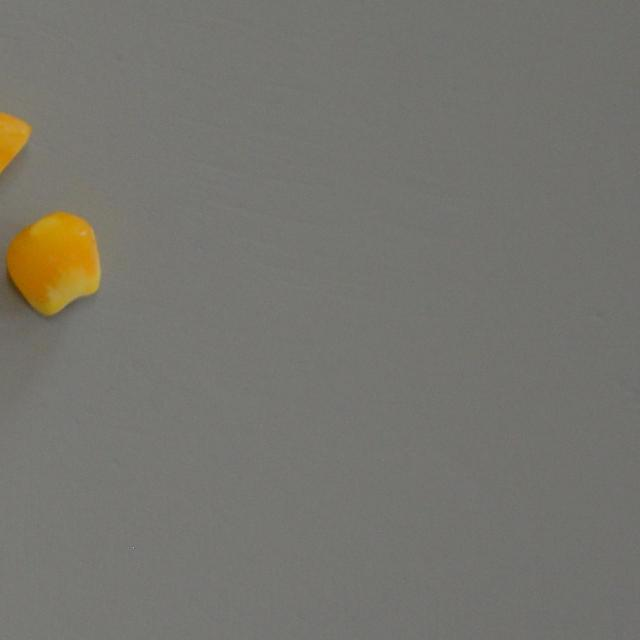estandar: (0, 107, 36, 190)
no_canjicado: (2, 208, 106, 318)
